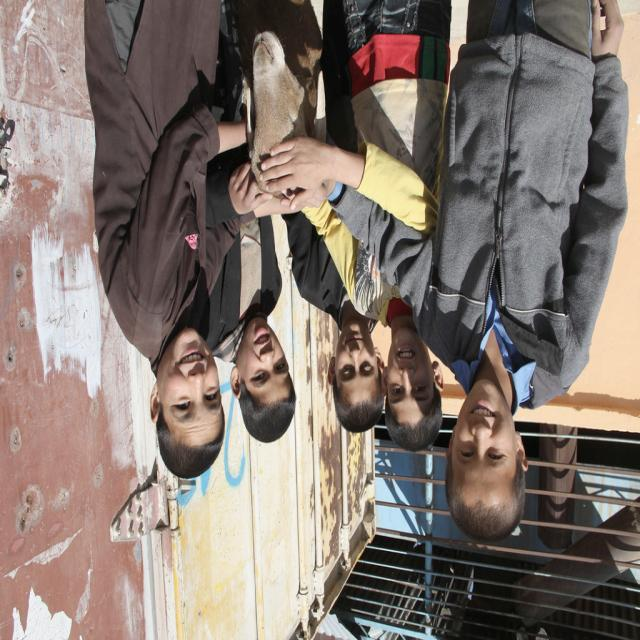Goat: (231, 2, 329, 206)
